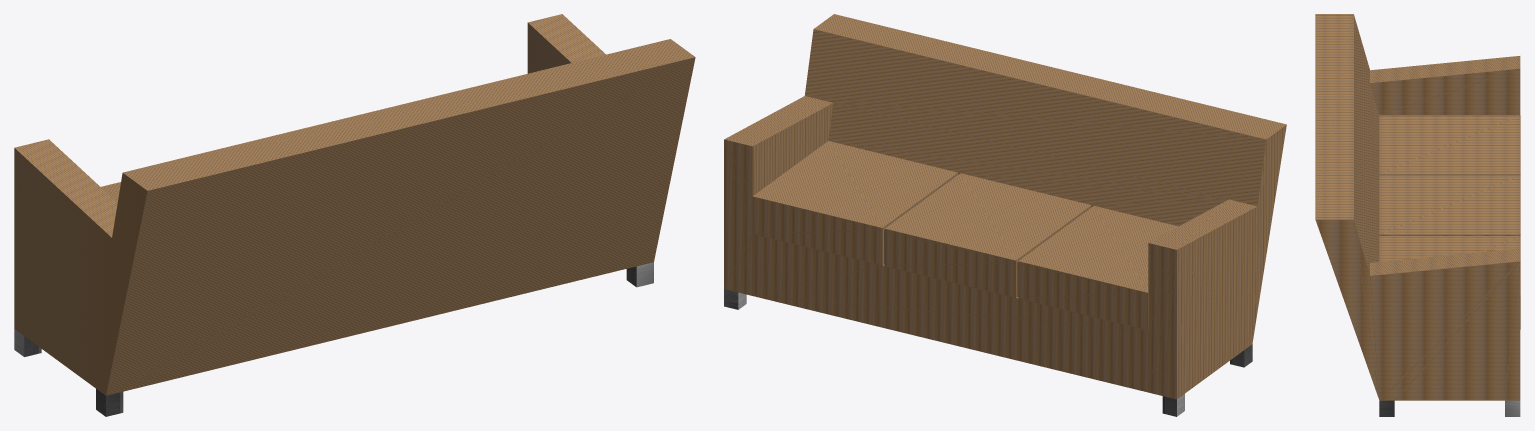
Rendered from couch.dae.
3 views of the same model, side by side, from view 1: azimuth 30°, elevation 25°; view 2: azimuth 150°, elevation 25°; view 3: azimuth 270°, elevation 25° (orthographic). The views are drawn at different scales.
Parts seen in each view (by area): view 1: SketchUp; view 2: SketchUp; view 3: SketchUp (×3).
Part boxes in pixels (left/top/right/bottom): SketchUp: left=14, top=14, right=695, bottom=395; SketchUp: left=724, top=14, right=1286, bottom=399; SketchUp (×3): left=1315, top=14, right=1520, bottom=416.
Size of the model in its own units: 74.8 by 31.54 by 33.46.
Materials: 3 (2 with a texture image).
